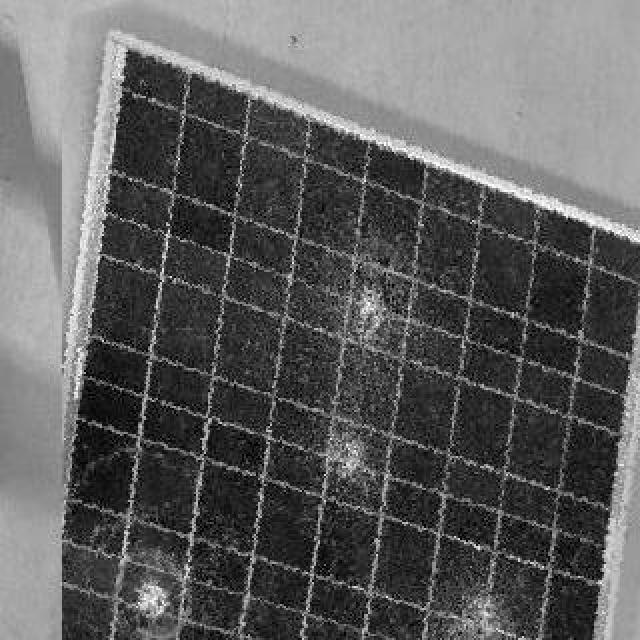Physical-damage: (222, 414, 446, 503), (302, 254, 462, 342), (103, 555, 227, 623), (426, 578, 544, 630)
